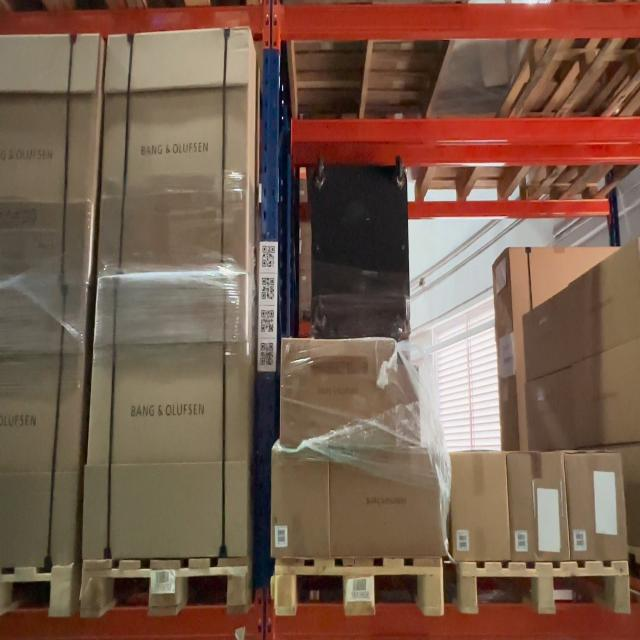box: (99, 283, 241, 555), (103, 32, 250, 274), (293, 166, 412, 336), (328, 439, 448, 566), (280, 342, 399, 441), (565, 454, 628, 558), (270, 448, 328, 554), (507, 453, 569, 552), (452, 455, 507, 564)
